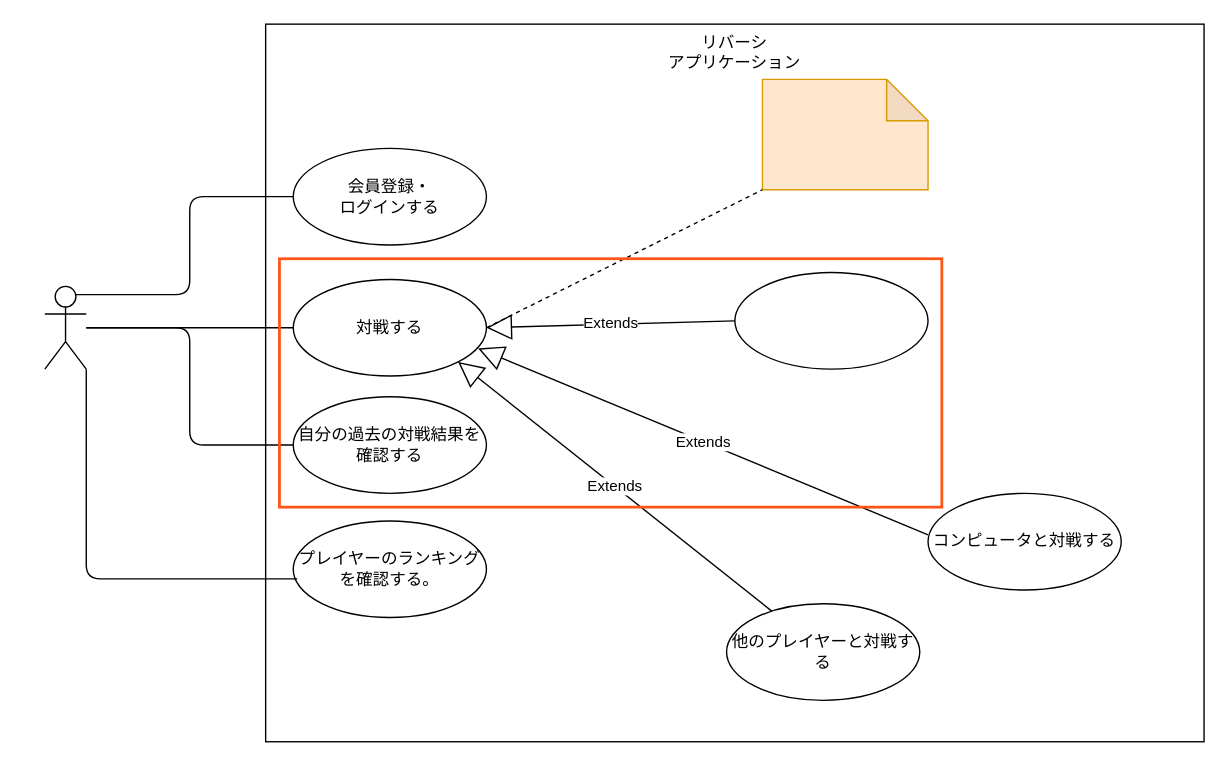
Some shapes in this 1228 by 766 pixel diagram are drawn without their labels. Here are the shapes that lost their labels. From the top down, the centre of each, then its label:
(844,134): ・対戦を開始する ・ 盤面を見る ・ 石を打つ ・ 勝敗を確認する
(64,327): プレイヤー
(830,320): 1人で黒白交互に打つ
